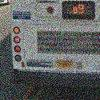buses: (7, 0, 100, 85)
